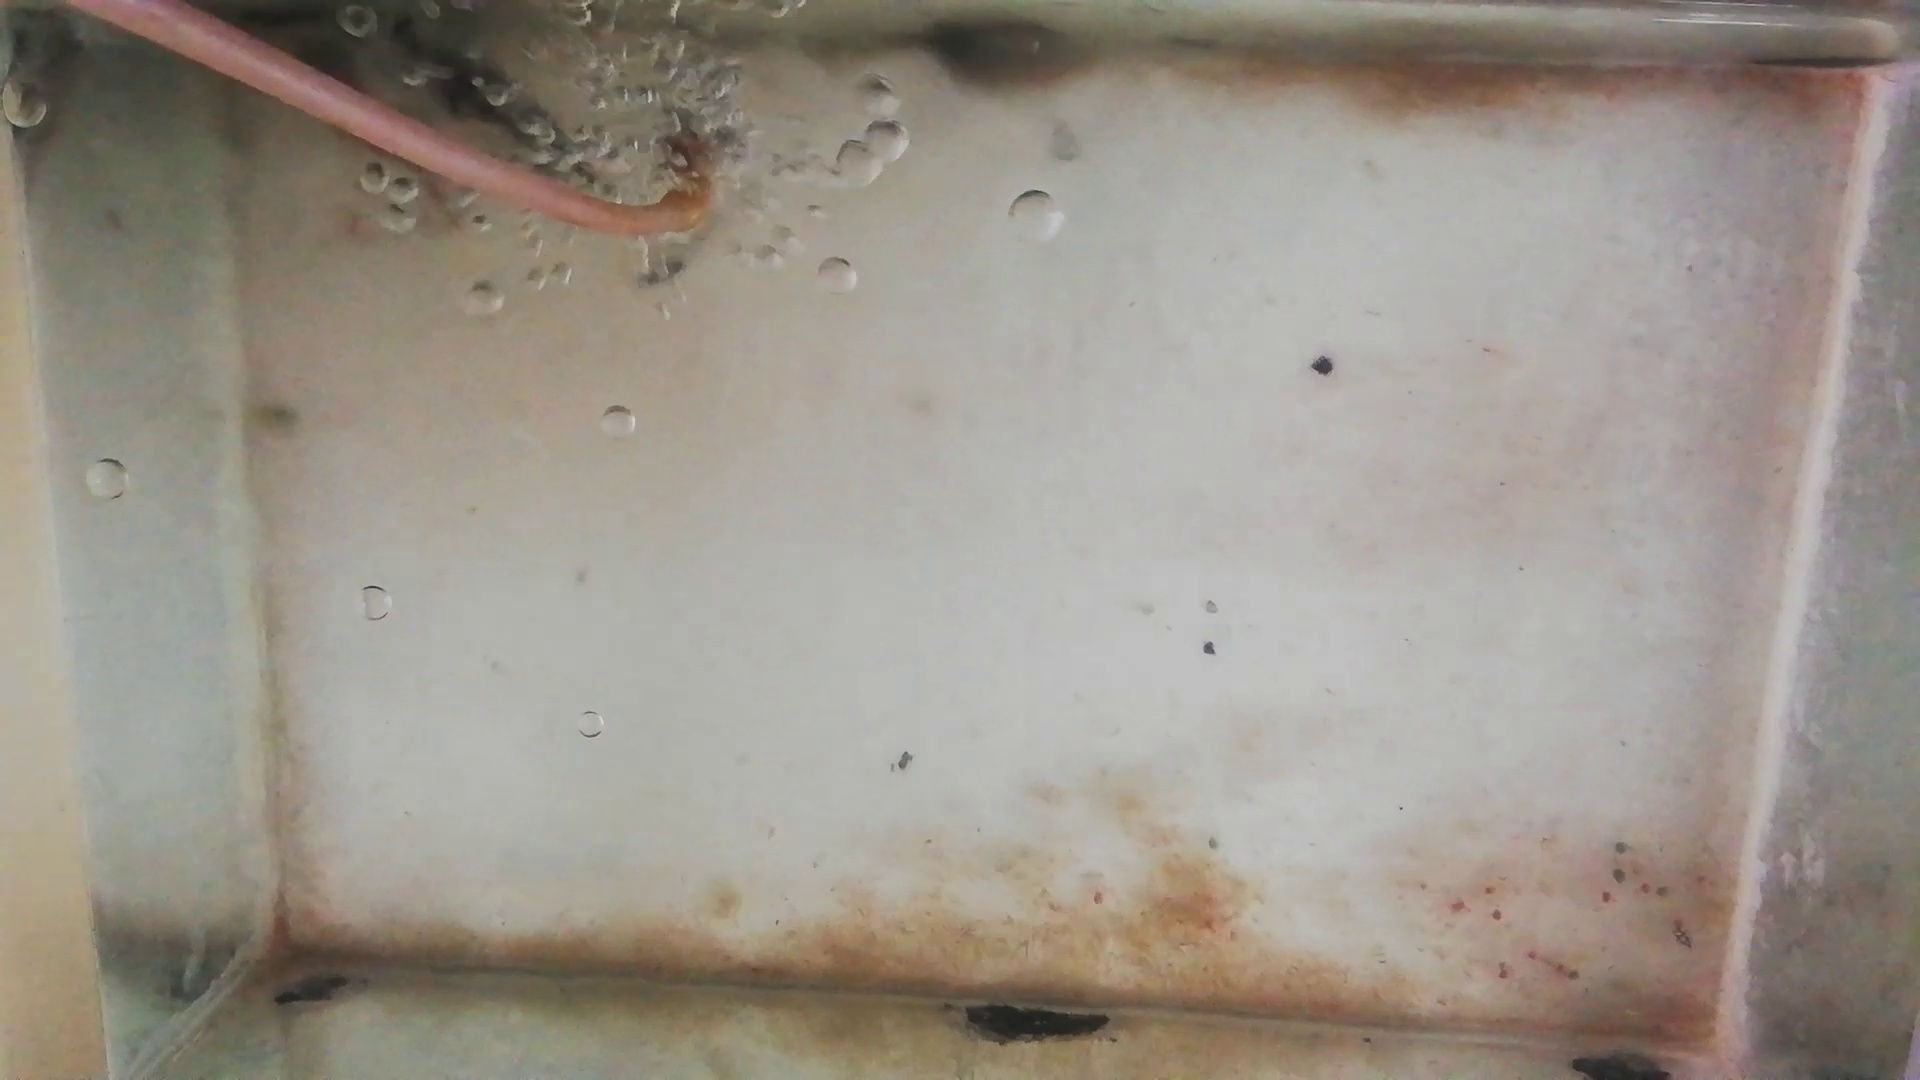fish: (392, 12, 591, 173)
